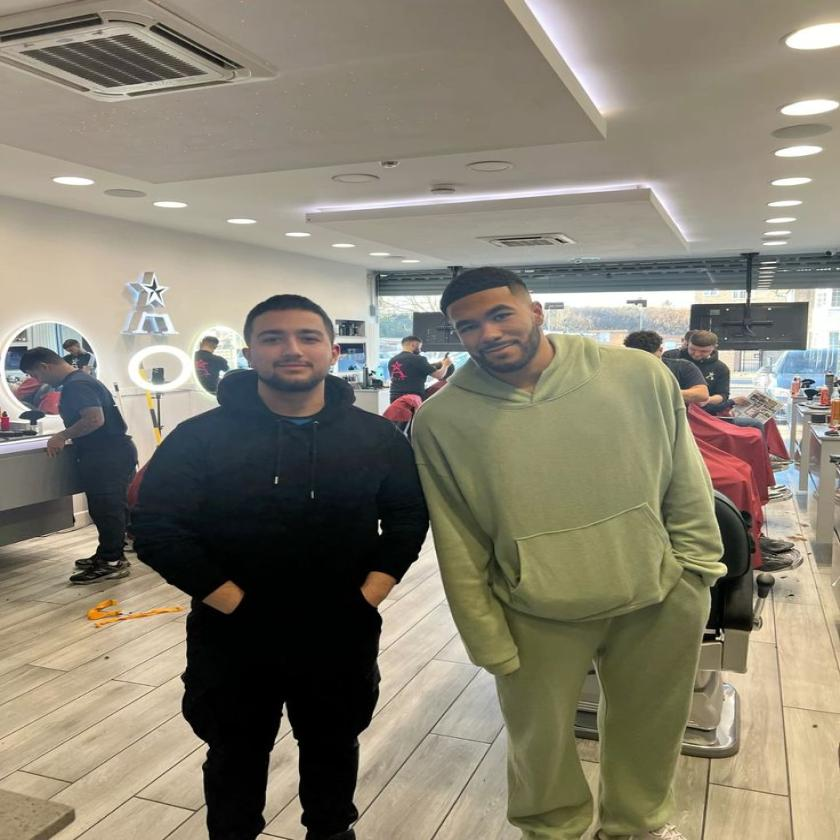Sin_casco: (437, 262, 558, 389), (233, 289, 341, 422)
